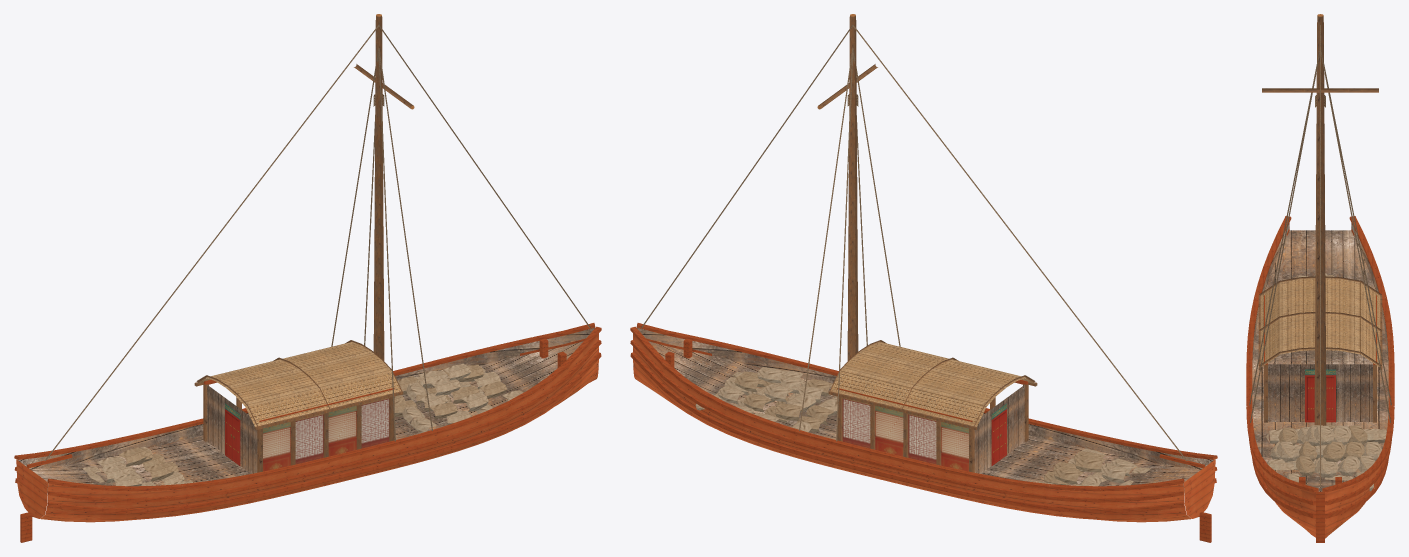
File: qm_cargo_lo.glb
The picture shows the model from 3 angles, left to right: view 1: azimuth 30°, elevation 25°; view 2: azimuth 150°, elevation 25°; view 3: azimuth 270°, elevation 25°; orthographic projection.
Visible parts, largest first — view 1: wale, hull, deck, mat, pole, sack, rope, sack2, bay_b, bay_a, wall, door; view 2: wale, hull, deck, mat, pole, sack, rope, sack2, bay_b, bay_a, wall, door; view 3: deck, mat, wale, pole, wall, sack, rope, hull, sack2, door.
Boxes of the visible parts, box(x1,y1,x2,y2) form: wale: box(14, 323, 601, 542); hull: box(16, 334, 598, 522); deck: box(17, 328, 594, 492); mat: box(197, 342, 400, 426); pole: box(194, 16, 413, 472); sack: box(82, 363, 523, 486); rope: box(42, 25, 590, 465); sack2: box(118, 364, 507, 481); bay_b: box(295, 398, 389, 464); bay_a: box(263, 406, 356, 471); wall: box(207, 385, 257, 473); door: box(225, 403, 240, 465); wale: box(630, 323, 1217, 542); hull: box(633, 334, 1215, 522); deck: box(637, 328, 1214, 492); mat: box(831, 342, 1034, 426); pole: box(818, 16, 1037, 472); sack: box(695, 367, 1150, 489); rope: box(641, 24, 1189, 465); sack2: box(734, 371, 1106, 485); bay_b: box(842, 398, 936, 464); bay_a: box(875, 406, 968, 471); wall: box(974, 385, 1024, 473); door: box(991, 403, 1006, 465); deck: box(1252, 223, 1388, 491); mat: box(1260, 278, 1380, 366); wale: box(1246, 216, 1394, 542); pole: box(1258, 16, 1382, 425); wall: box(1268, 364, 1372, 421); sack: box(1266, 273, 1386, 491); rope: box(1249, 25, 1391, 487); hull: box(1258, 463, 1382, 538); sack2: box(1278, 275, 1367, 475); door: box(1305, 369, 1335, 422).
Size of the model in its own units: 18.42 by 13.4 by 4.06.
Materials: 13 (13 with a texture image).
